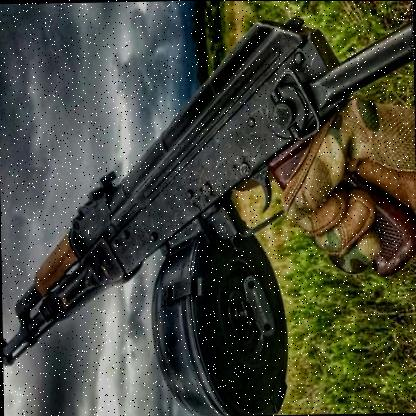rifle: (0, 29, 380, 390)
